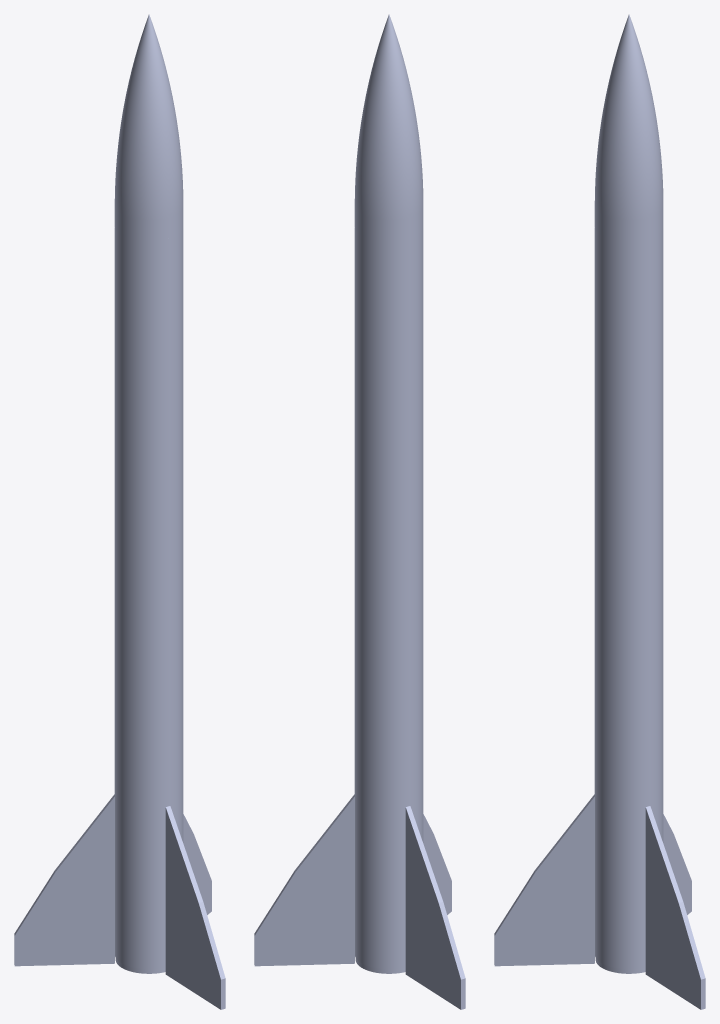
File: rocket-model.glb
3 views of the same model, side by side, from view 1: azimuth 30°, elevation 25°; view 2: azimuth 150°, elevation 25°; view 3: azimuth 270°, elevation 25° (orthographic).
Visible parts, largest first — view 1: Body Tube 2024-2, Whole L1 rocket 2024 (2), Nose Cone 2024-3, Fin Tab 2024-2; view 2: Body Tube 2024-2, Nose Cone 2024-3, Fin Tab 2024-2, Whole L1 rocket 2024 (2); view 3: Body Tube 2024-2, Whole L1 rocket 2024 (2), Nose Cone 2024-3, Fin Tab 2024-2.
Boxes of the visible parts, <box> form: Body Tube 2024-2: <box>114,227,183,969</box>; Whole L1 rocket 2024 (2): <box>14,794,225,1009</box>; Nose Cone 2024-3: <box>114,14,183,240</box>; Fin Tab 2024-2: <box>183,814,211,914</box>; Body Tube 2024-2: <box>354,227,423,969</box>; Nose Cone 2024-3: <box>354,14,423,240</box>; Fin Tab 2024-2: <box>254,794,354,966</box>; Whole L1 rocket 2024 (2): <box>405,806,465,1009</box>; Body Tube 2024-2: <box>594,227,663,969</box>; Whole L1 rocket 2024 (2): <box>494,794,691,966</box>; Nose Cone 2024-3: <box>594,14,663,240</box>; Fin Tab 2024-2: <box>645,806,705,1009</box>.
Bounding box in the file's own units: 0.2684 × 1.19 × 0.2404.
